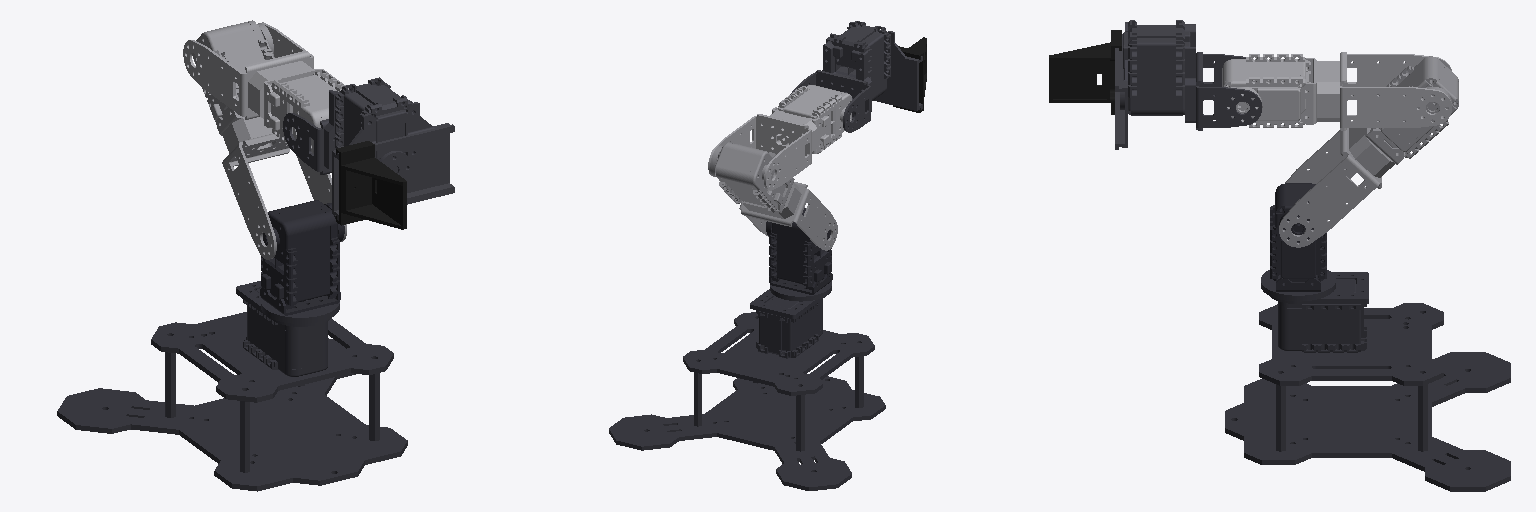
robot.urdf — phantomx_pincher_cad:
<?xml version="1.0" ?>
<!-- 由 scripts/build_cad_urdf.py 从 PhantomX Pincher Mark II STEP/GLB 生成。
     运动学来自 CAD 装配：link frame = 零件局部坐标系，joint origin = 父→子相对变换。
     base_link 包含底座；base_footprint 把 CAD 的 Y-up 转成 Z-up。
-->
<robot name="phantomx_pincher_cad">
  <link name="base_footprint"/>
  <joint name="arm_base_joint" type="fixed">
    <origin xyz="0 0 0" rpy="0 -0 -1.57079633"/>
    <parent link="base_footprint"/>
    <child link="base_link"/>
  </joint>

  <link name="base_link">
    <inertial>
      <mass value="0.3"/>
      <origin xyz="0 0 0"/>
      <inertia ixx="0.0001" ixy="0" ixz="0" iyy="0.0001" iyz="0" izz="0.0001"/>
    </inertial>
    <visual>
      <origin xyz="0 0 0" rpy="0 0 0"/>
      <geometry><mesh filename="parts/PincherBase.stl" scale="1.0 1.0 1.0"/></geometry>
      <material name="grey"><color rgba="0.25 0.25 0.28 1"/></material>
    </visual>
    <collision>
      <origin xyz="0 0 0" rpy="0 0 0"/>
      <geometry><mesh filename="parts/PincherBase.stl" scale="1.0 1.0 1.0"/></geometry>
    </collision>
    <visual>
      <origin xyz="0 0 0" rpy="0 0 0"/>
      <geometry><mesh filename="parts/PincherBase_1.stl" scale="1.0 1.0 1.0"/></geometry>
      <material name="grey"><color rgba="0.25 0.25 0.28 1"/></material>
    </visual>
    <collision>
      <origin xyz="0 0 0" rpy="0 0 0"/>
      <geometry><mesh filename="parts/PincherBase_1.stl" scale="1.0 1.0 1.0"/></geometry>
    </collision>
  </link>

  <joint name="arm_shoulder_pan_joint" type="revolute">
    <origin xyz="0.00007574 0.00007574 0.09437501" rpy="0 0 0"/>
    <axis xyz="0 0 1"/>
    <limit effort="6" lower="-1.74" upper="1.74" velocity="1.571"/>
    <dynamics friction="0.13"/>
    <parent link="base_link"/>
    <child link="arm_shoulder_pan_link"/>
  </joint>
  <link name="arm_shoulder_pan_link">
    <inertial>
      <mass value="0.08"/>
      <origin xyz="0 0 0"/>
      <inertia ixx="0.0001" ixy="0" ixz="0" iyy="0.0001" iyz="0" izz="0.0001"/>
    </inertial>
    <visual>
      <origin xyz="0 0 0" rpy="0 0 0"/>
      <geometry><mesh filename="parts/Component1.stl" scale="1.0 1.0 1.0"/></geometry>
      <material name="grey"><color rgba="0.22 0.22 0.25 1"/></material>
    </visual>
    <collision>
      <origin xyz="0 0 0" rpy="0 0 0"/>
      <geometry><mesh filename="parts/Component1.stl" scale="1.0 1.0 1.0"/></geometry>
    </collision>
  </link>

  <joint name="arm_bicep_joint" type="revolute">
    <origin xyz="-0.00000023 0 0.04149977" rpy="0 -0.78539816 0"/>
    <axis xyz="0 1 -0"/>
    <limit effort="6" lower="-1.98" upper="1.88" velocity="1.571"/>
    <dynamics friction="0.13"/>
    <parent link="arm_shoulder_pan_link"/>
    <child link="arm_bicep_link"/>
  </joint>
  <link name="arm_bicep_link">
    <inertial>
      <mass value="0.1"/>
      <origin xyz="0 0 0"/>
      <inertia ixx="0.0001" ixy="0" ixz="0" iyy="0.0001" iyz="0" izz="0.0001"/>
    </inertial>
    <visual>
      <origin xyz="0 0 0" rpy="0 0 0"/>
      <geometry><mesh filename="parts/LowerArm_v2.stl" scale="1.0 1.0 1.0"/></geometry>
      <material name="grey"><color rgba="0.6 0.6 0.62 1"/></material>
    </visual>
    <collision>
      <origin xyz="0 0 0" rpy="0 0 0"/>
      <geometry><mesh filename="parts/LowerArm_v2.stl" scale="1.0 1.0 1.0"/></geometry>
    </collision>
  </link>

  <joint name="arm_forearm_joint" type="revolute">
    <origin xyz="0.00000023 0 0.10700023" rpy="-3.14159265 0.78539816 -3.14159265"/>
    <axis xyz="-0 1 0"/>
    <limit effort="6" lower="-1.58" upper="0.59" velocity="1.571"/>
    <dynamics friction="0.13"/>
    <parent link="arm_bicep_link"/>
    <child link="arm_forearm_link"/>
  </joint>
  <link name="arm_forearm_link">
    <inertial>
      <mass value="0.08"/>
      <origin xyz="0 0 0"/>
      <inertia ixx="0.0001" ixy="0" ixz="0" iyy="0.0001" iyz="0" izz="0.0001"/>
    </inertial>
    <visual>
      <origin xyz="0 0 0" rpy="0 0 0"/>
      <geometry><mesh filename="parts/UpperArm_v2.stl" scale="1.0 1.0 1.0"/></geometry>
      <material name="grey"><color rgba="0.68 0.68 0.7 1"/></material>
    </visual>
    <collision>
      <origin xyz="0 0 0" rpy="0 0 0"/>
      <geometry><mesh filename="parts/UpperArm_v2.stl" scale="1.0 1.0 1.0"/></geometry>
    </collision>
  </link>

  <joint name="arm_wrist_flex_joint" type="revolute">
    <origin xyz="-0.00025427 -0 0.107" rpy="-0 0 0"/>
    <axis xyz="-0 1 0"/>
    <limit effort="6" lower="-1.79" upper="1.67" velocity="1.571"/>
    <dynamics friction="0.13"/>
    <parent link="arm_forearm_link"/>
    <child link="arm_wrist_flex_link"/>
  </joint>
  <link name="arm_wrist_flex_link">
    <inertial>
      <mass value="0.06"/>
      <origin xyz="0 0 0"/>
      <inertia ixx="0.0001" ixy="0" ixz="0" iyy="0.0001" iyz="0" izz="0.0001"/>
    </inertial>
    <visual>
      <origin xyz="0 0 0" rpy="0 0 0"/>
      <geometry><mesh filename="parts/GripperBody_v4.stl" scale="1.0 1.0 1.0"/></geometry>
      <material name="grey"><color rgba="0.3 0.3 0.33 1"/></material>
    </visual>
    <collision>
      <origin xyz="0 0 0" rpy="0 0 0"/>
      <geometry><mesh filename="parts/GripperBody_v4.stl" scale="1.0 1.0 1.0"/></geometry>
    </collision>
  </link>

  <joint name="gripper_joint" type="prismatic">
    <origin xyz="0.00036977 0.02834429 0.07158491" rpy="-0 0 3.14159265"/>
    <axis xyz="0 -1 -0"/>
    <limit effort="30" lower="-0.0276" upper="0.032" velocity="0.5"/>
    <parent link="arm_wrist_flex_link"/>
    <child link="gripper_active_link"/>
  </joint>
  <link name="gripper_active_link">
    <inertial>
      <mass value="0.01"/>
      <origin xyz="0 0 0"/>
      <inertia ixx="0.0001" ixy="0" ixz="0" iyy="0.0001" iyz="0" izz="0.0001"/>
    </inertial>
    <visual>
      <origin xyz="0 0 0" rpy="0 0 0"/>
      <geometry><mesh filename="parts/LeftFinger_v2.stl" scale="1.0 1.0 1.0"/></geometry>
      <material name="grey"><color rgba="0.15 0.15 0.15 1"/></material>
    </visual>
    <collision>
      <origin xyz="0 0 0" rpy="0 0 0"/>
      <geometry><mesh filename="parts/LeftFinger_v2.stl" scale="1.0 1.0 1.0"/></geometry>
    </collision>
  </link>

  <joint name="gripper2_joint" type="fixed">
    <origin xyz="0.00036977 -0.02849576 0.07158491" rpy="0 -0 0"/>
    <parent link="arm_wrist_flex_link"/>
    <child link="gripper_active2_link"/>
  </joint>
  <link name="gripper_active2_link">
    <inertial>
      <mass value="0.01"/>
      <origin xyz="0 0 0"/>
      <inertia ixx="0.0001" ixy="0" ixz="0" iyy="0.0001" iyz="0" izz="0.0001"/>
    </inertial>
    <visual>
      <origin xyz="0 0 0" rpy="0 0 0"/>
      <geometry><mesh filename="parts/LeftFinger_v2_1.stl" scale="1.0 1.0 1.0"/></geometry>
      <material name="grey"><color rgba="0.15 0.15 0.15 1"/></material>
    </visual>
    <collision>
      <origin xyz="0 0 0" rpy="0 0 0"/>
      <geometry><mesh filename="parts/LeftFinger_v2_1.stl" scale="1.0 1.0 1.0"/></geometry>
    </collision>
  </link>
</robot>

--- Render facts (derived) ---
3 views of the same robot in one strip: view 1: azimuth 30°, elevation 25°; view 2: azimuth 150°, elevation 25°; view 3: azimuth 270°, elevation 25° (orthographic).
Robot: phantomx_pincher_cad — 8 links, 7 joints (4 revolute, 1 prismatic, 2 fixed); root link base_footprint; default pose: all joints at 0.
Visible links, largest first — view 1: base_link, arm_wrist_flex_link, arm_forearm_link, arm_bicep_link, arm_shoulder_pan_link, gripper_active2_link; view 2: base_link, arm_wrist_flex_link, arm_forearm_link, arm_bicep_link, arm_shoulder_pan_link, gripper_active2_link; view 3: base_link, arm_forearm_link, arm_wrist_flex_link, arm_bicep_link, arm_shoulder_pan_link, gripper_active2_link.
Boxes of the visible links, x1=… form: base_link: x1=57, y1=281, x2=407, y2=491; arm_wrist_flex_link: x1=283, y1=77, x2=454, y2=220; arm_forearm_link: x1=183, y1=22, x2=348, y2=153; arm_bicep_link: x1=192, y1=20, x2=346, y2=259; arm_shoulder_pan_link: x1=260, y1=200, x2=344, y2=315; gripper_active2_link: x1=336, y1=141, x2=406, y2=229; base_link: x1=609, y1=281, x2=885, y2=490; arm_wrist_flex_link: x1=790, y1=21, x2=922, y2=132; arm_forearm_link: x1=708, y1=85, x2=851, y2=190; arm_bicep_link: x1=710, y1=142, x2=837, y2=250; arm_shoulder_pan_link: x1=766, y1=208, x2=832, y2=294; gripper_active2_link: x1=893, y1=37, x2=926, y2=112; base_link: x1=1225, y1=270, x2=1510, y2=491; arm_forearm_link: x1=1222, y1=52, x2=1451, y2=130; arm_wrist_flex_link: x1=1115, y1=20, x2=1261, y2=149; arm_bicep_link: x1=1279, y1=56, x2=1458, y2=247; arm_shoulder_pan_link: x1=1270, y1=183, x2=1326, y2=291; gripper_active2_link: x1=1049, y1=30, x2=1121, y2=114.
Bounding box of the posed robot: 0.1792 × 0.26 × 0.2503 m (x, y, z).
7 mesh visuals loaded from 8 distinct referenced files (7 binary STL); not drawn: 1 (reference not matched to a file when rendering).
